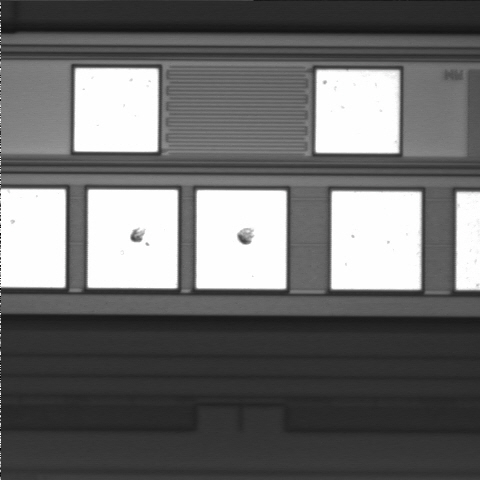pad: (196, 190, 286, 289), (331, 191, 421, 290), (88, 190, 178, 288), (74, 68, 158, 152), (316, 70, 399, 153)
